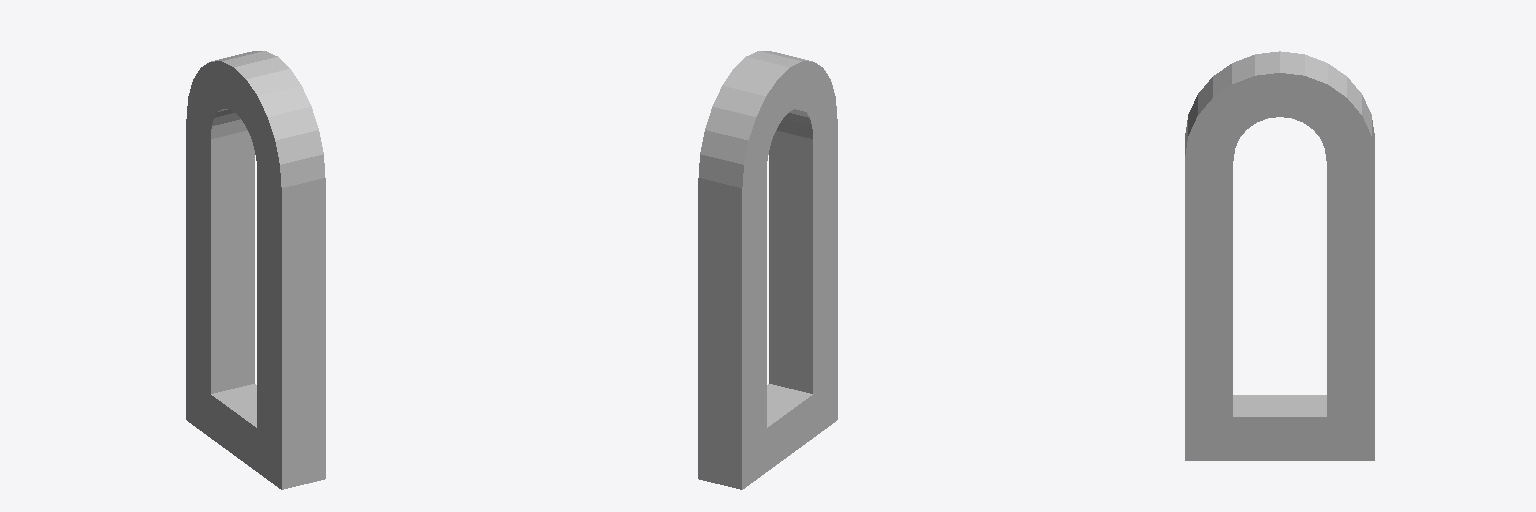
The model's file is modularBuildings_093.obj.
3 views of the same model, side by side, from view 1: azimuth 30°, elevation 25°; view 2: azimuth 150°, elevation 25°; view 3: azimuth 270°, elevation 25° (orthographic).
Parts seen in each view (by area): view 1: Mesh1 Group1 Model; view 2: Mesh1 Group1 Model; view 3: Mesh1 Group1 Model.
Boxes of the visible parts, box(x1,y1,x2,y2) form: Mesh1 Group1 Model: box(186, 51, 325, 489); Mesh1 Group1 Model: box(698, 51, 837, 489); Mesh1 Group1 Model: box(1185, 51, 1374, 460).
Size of the model in its own units: 0.05 by 0.4219 by 0.1875.